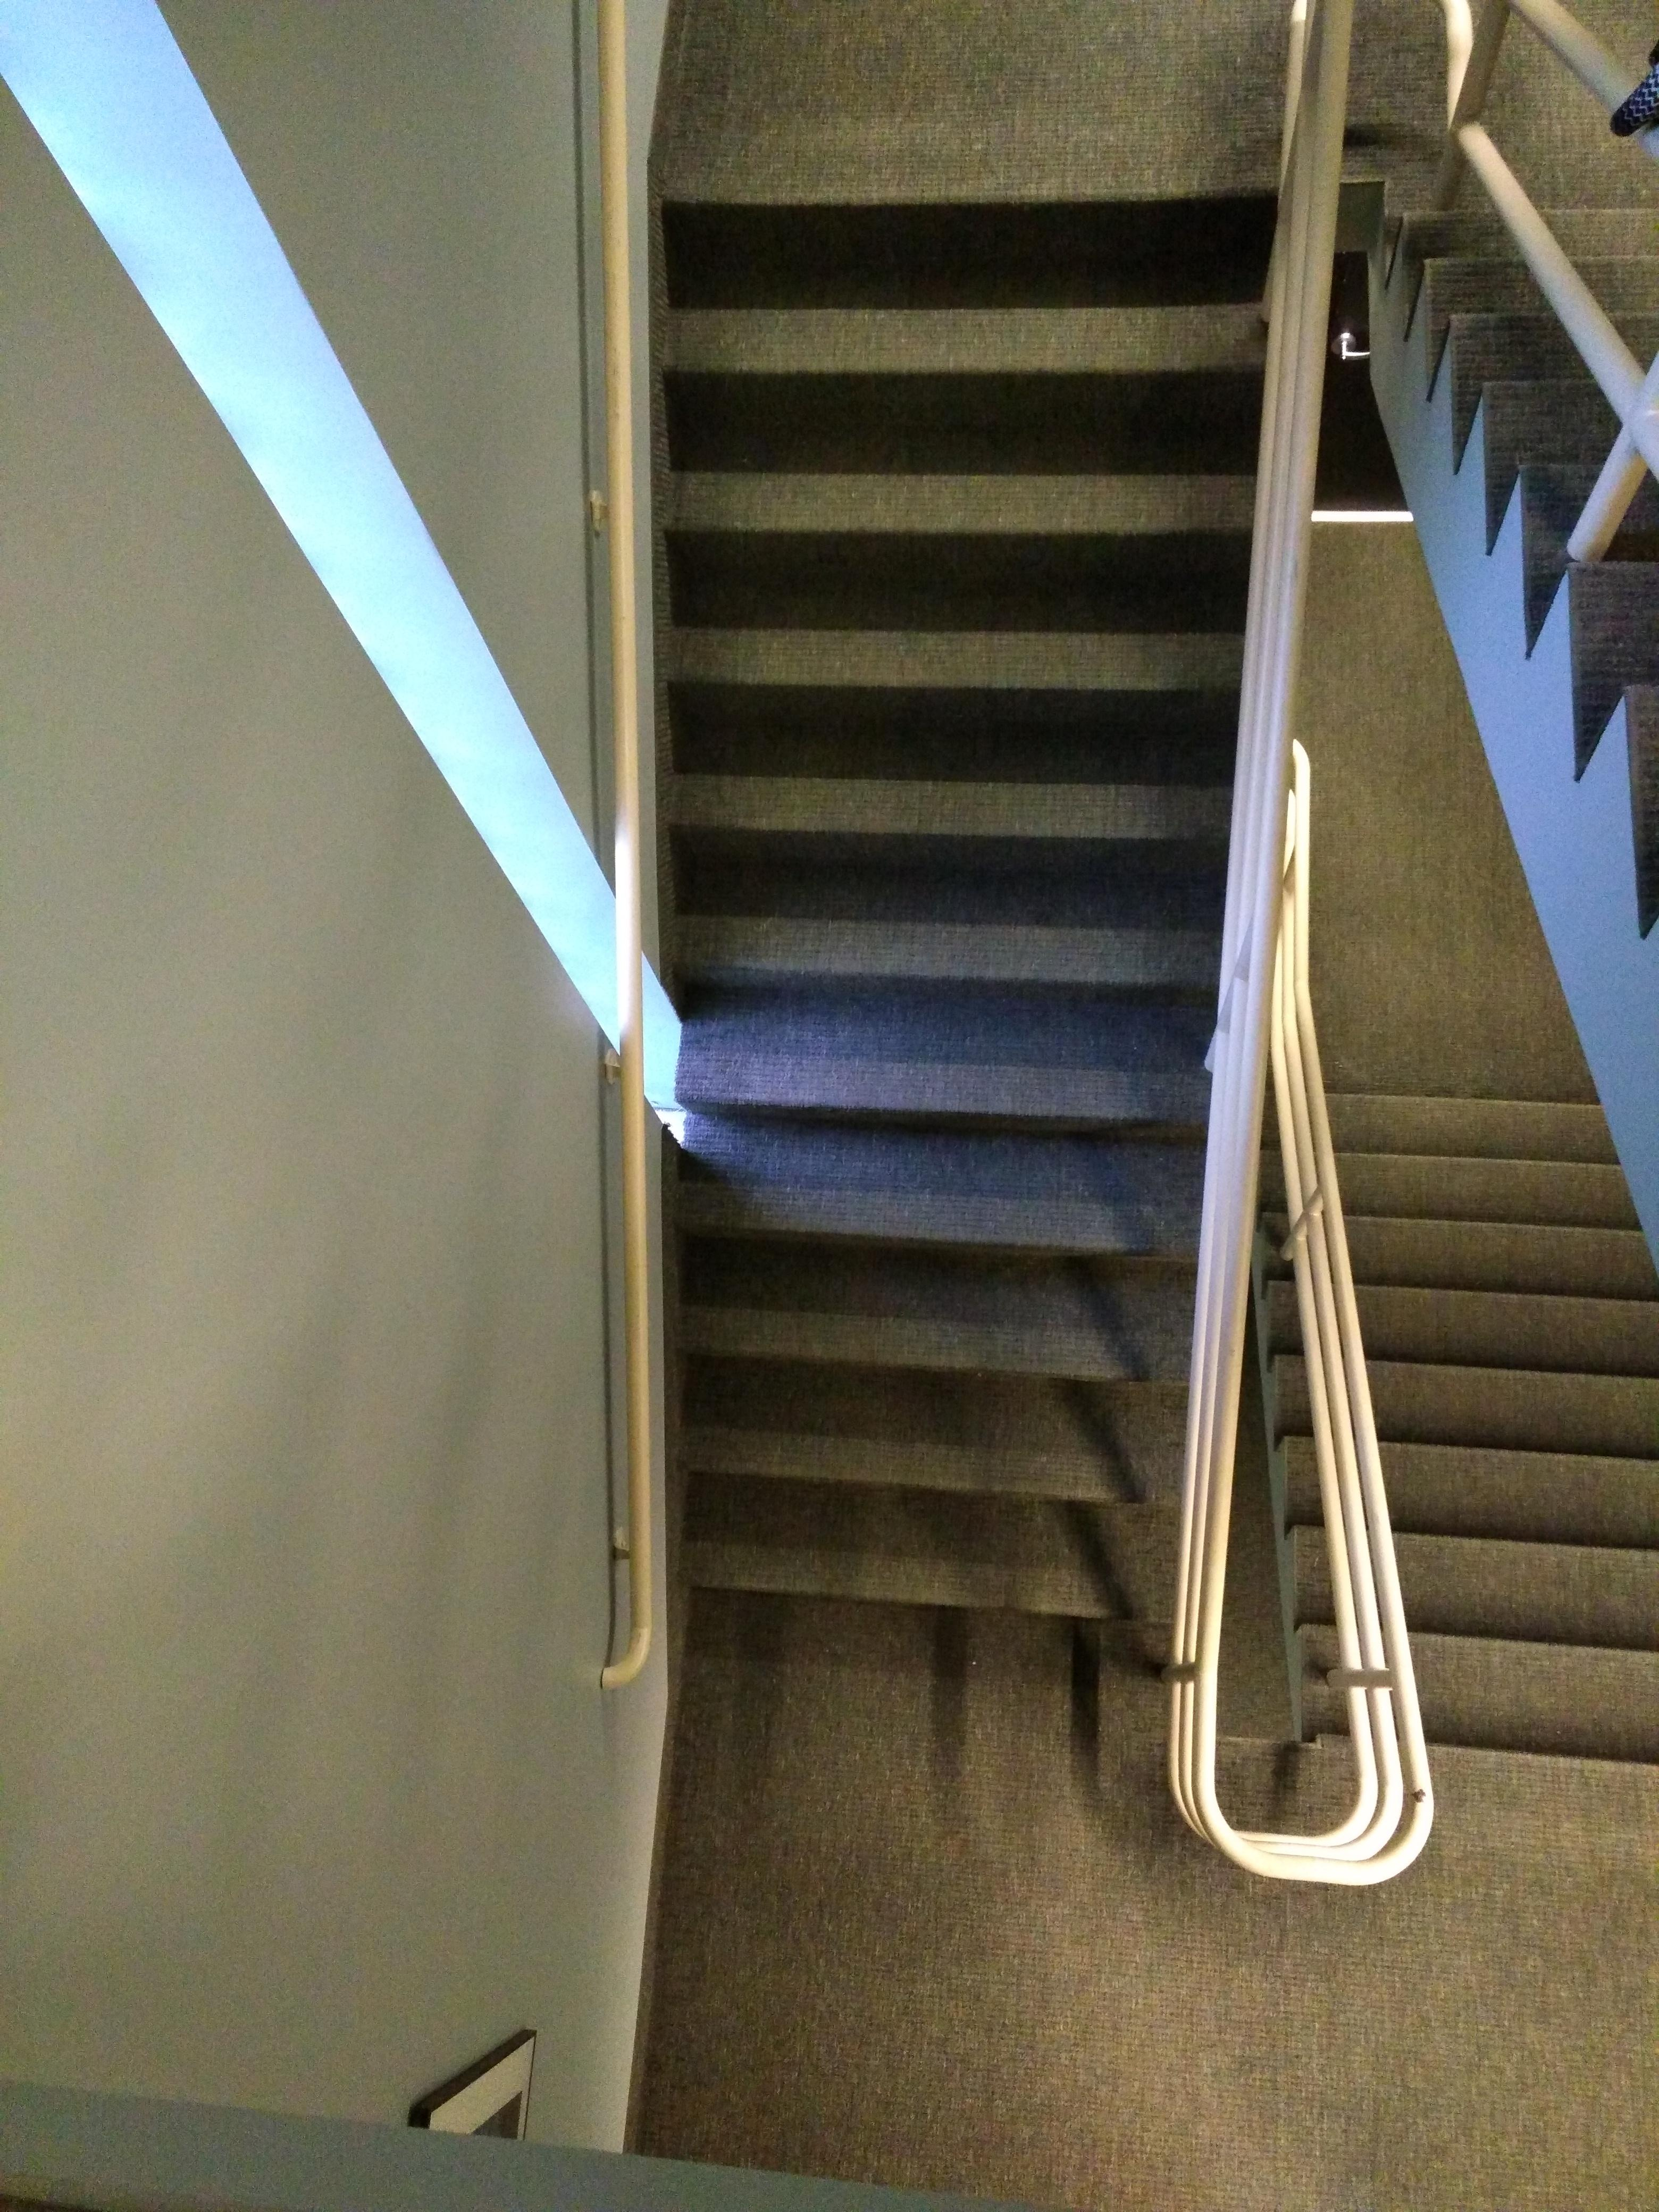stairs_down: (1316, 1017, 1647, 1846)
stairs_up: (666, 188, 1223, 1665)
